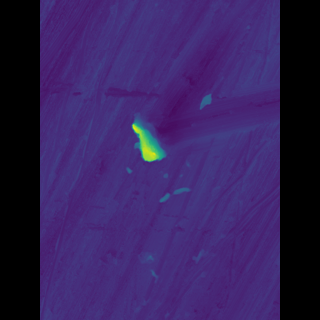Loch: (134, 108, 168, 169), (141, 247, 160, 271)
